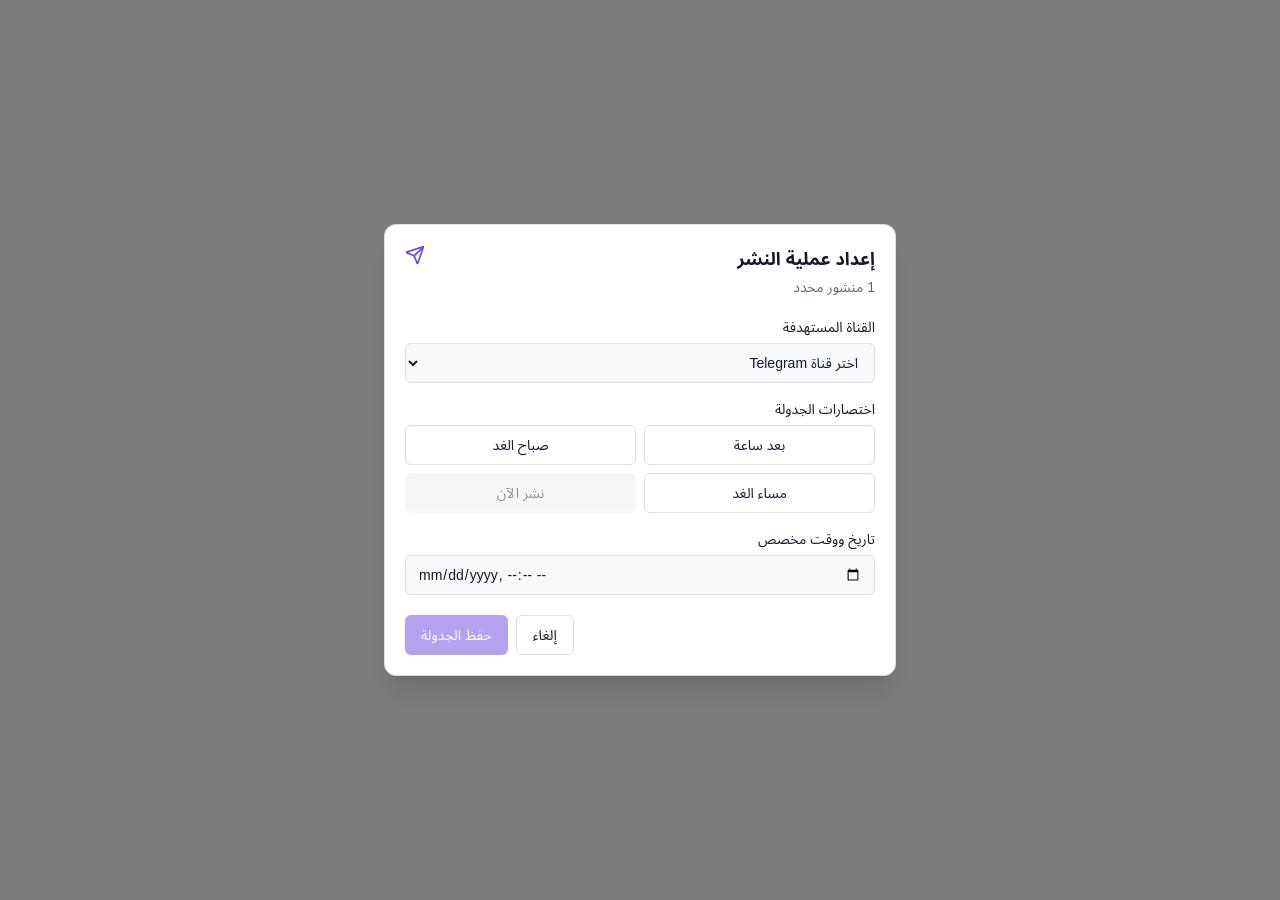
Test case: QueueSchedulingDialog › shows a past scheduledAt error and does not submit
This screenshot has width=1280, height=900.
Select "قناة الاختبار" in the dropdown labelled "القناة المستهدفة": (640, 363) [405,343,875,383]
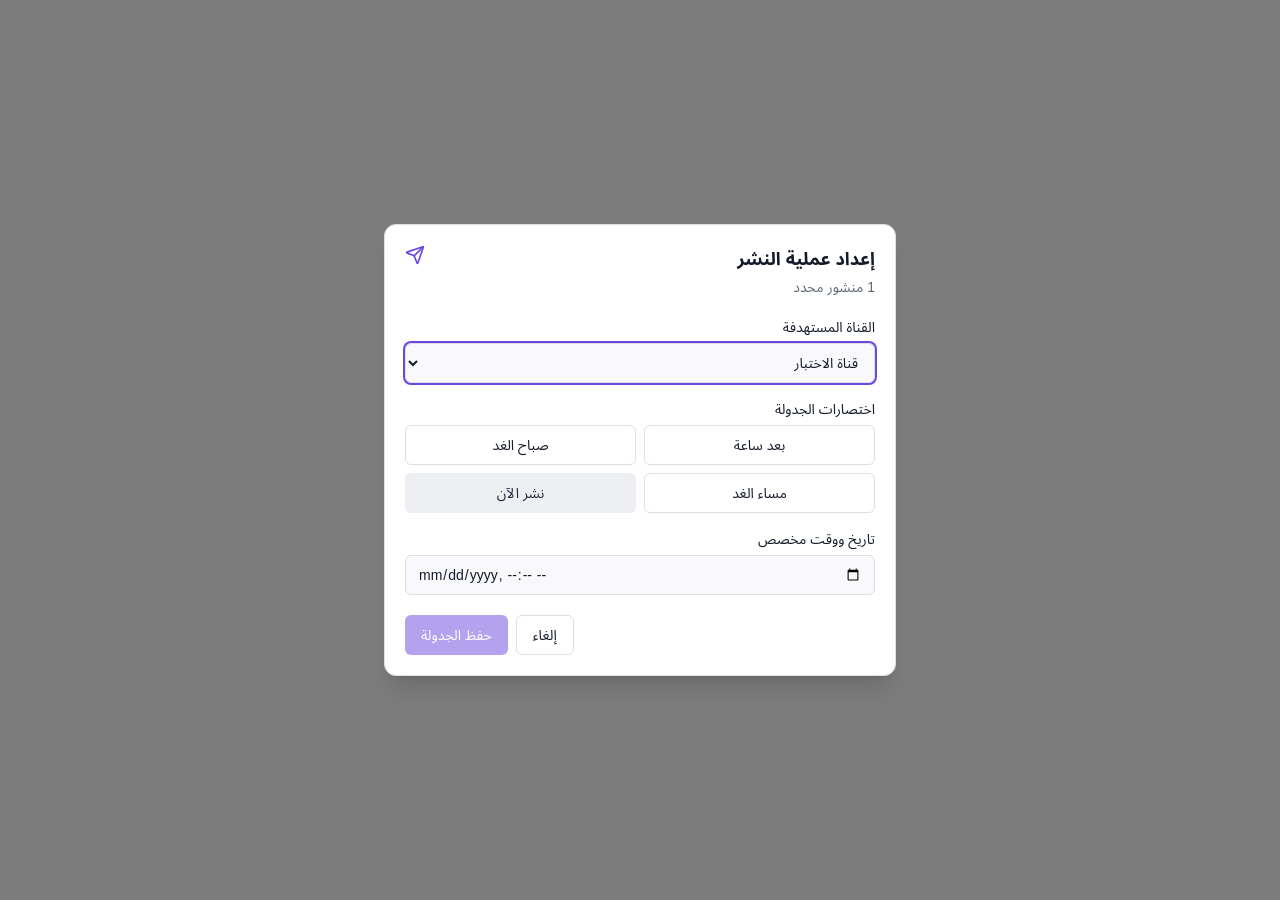
In the field labelled "تاريخ ووقت مخصص": (640, 575) [405,555,875,595], type "2020-01-15T09:00"
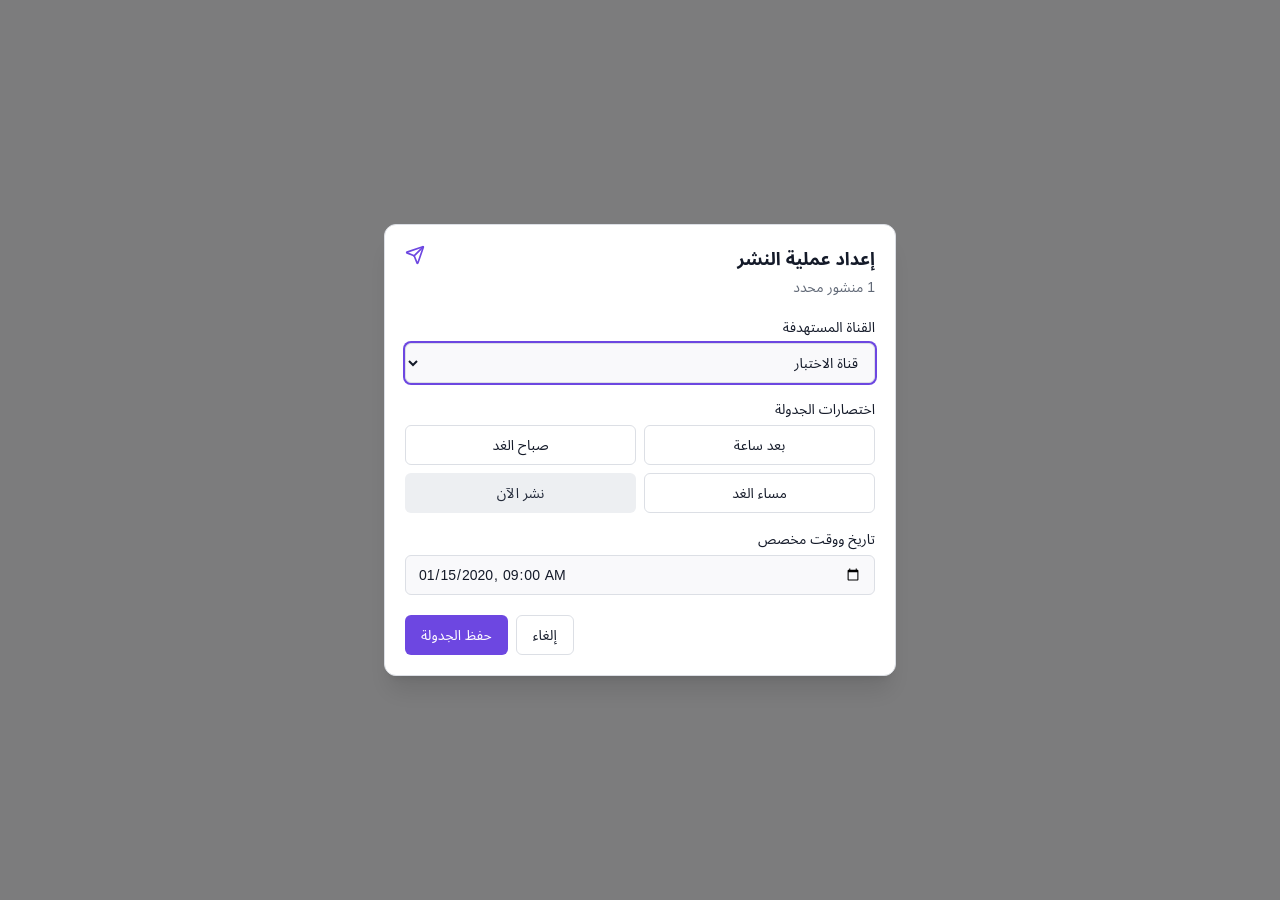
Click the button "حفظ الجدولة": (456, 635) [405,615,508,655]
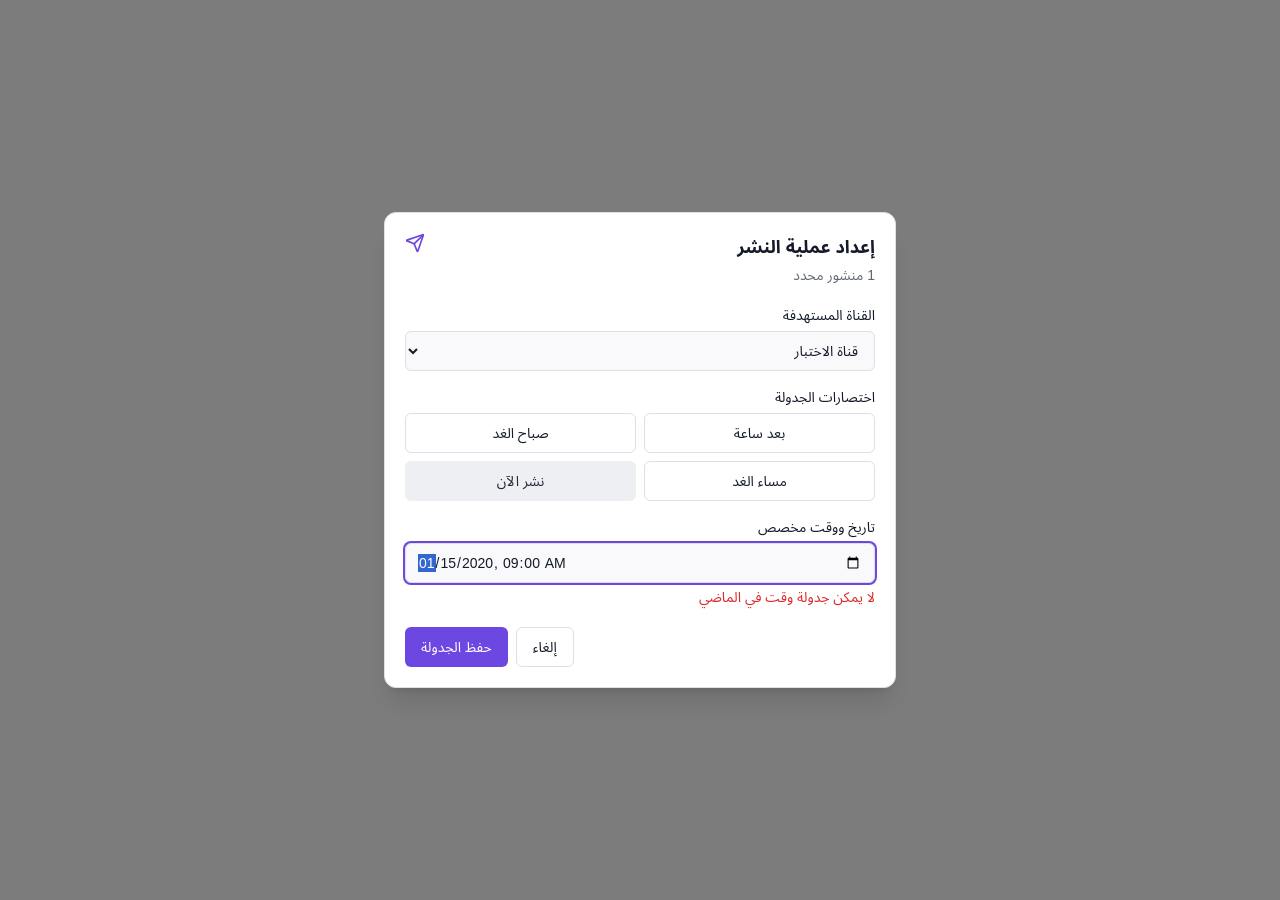
Check: the text "لا يمكن جدولة وقت في الماضي" is shown, box [699,589,875,605]
